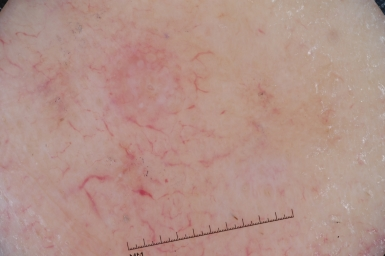seborrheic keratosis: (80, 34, 259, 214)
